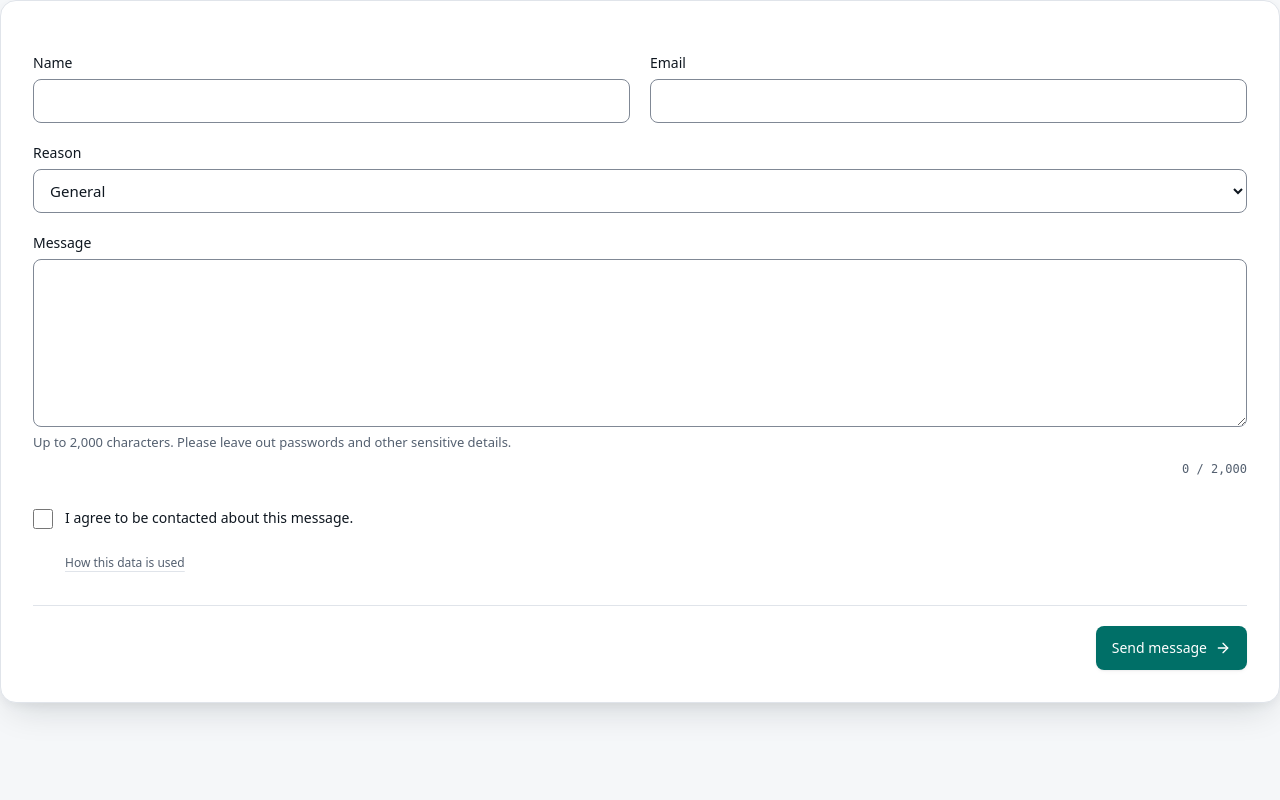
Test case: contact form › requires consent and valid fields before making a request
The width and height of the screenshot is (1280, 800).
What coordinates should you click on to do the following:
click the button "Send message"
I would click on:
 (1171, 648)
Its box is [1096,626,1247,670].
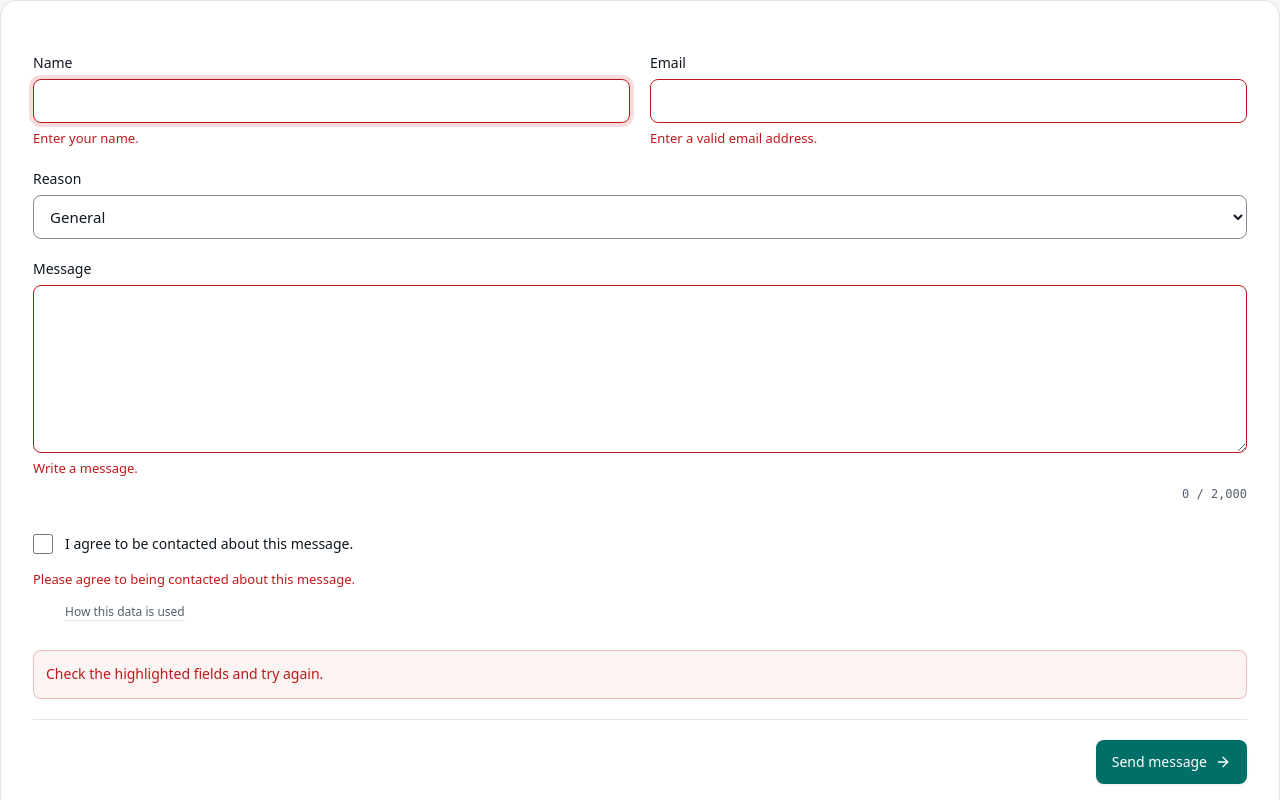
Check: the text "Enter your name." is shown, box [33,129,139,147]
Check: the text "Please agree to being contacted about this message." is shown, box [33,570,355,588]
